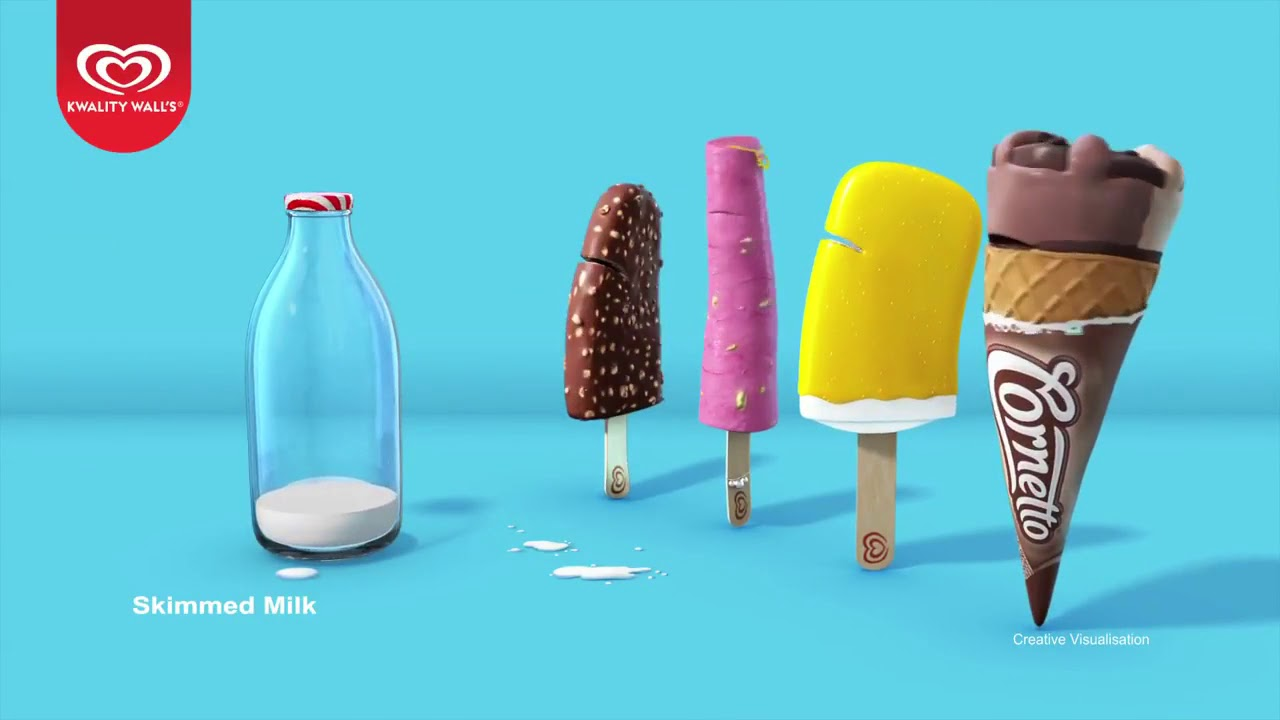Kwality_Walls: (67, 39, 172, 100)
